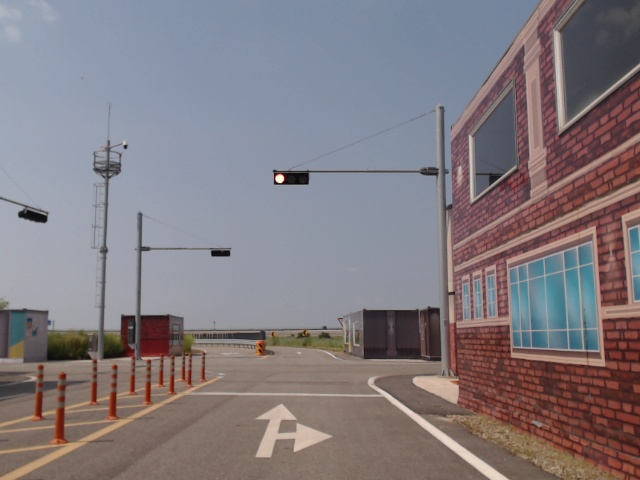red_3: (273, 171, 310, 185)
